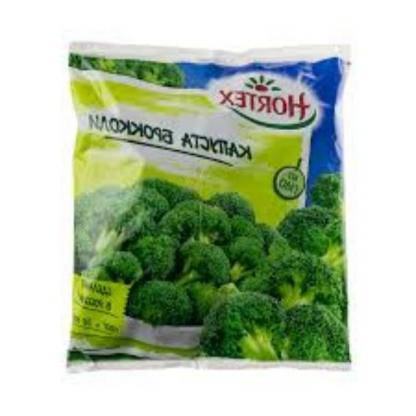broccoli: (87, 178, 350, 358)
